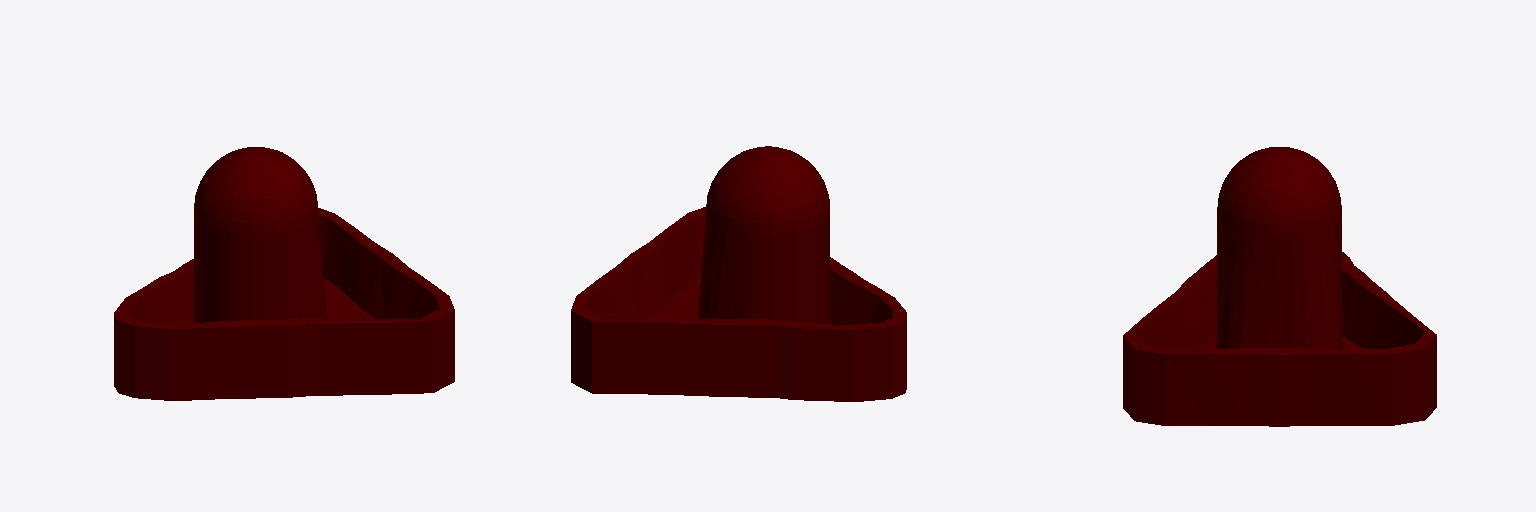
File: Paddle_Triangle2.obj
3 renders of one model, left to right at view 1: azimuth 30°, elevation 25°; view 2: azimuth 150°, elevation 25°; view 3: azimuth 270°, elevation 25°, orthographic.
Parts seen in each view (by area): view 1: Mesh_Cylinder; view 2: Mesh_Cylinder; view 3: Mesh_Cylinder.
Boxes of the visible parts, x1,y1,x2,y2 form: Mesh_Cylinder: [114, 147, 454, 400]; Mesh_Cylinder: [571, 146, 906, 401]; Mesh_Cylinder: [1123, 147, 1436, 426].
Bounding box in the file's own units: 2 × 1.44 × 1.98.